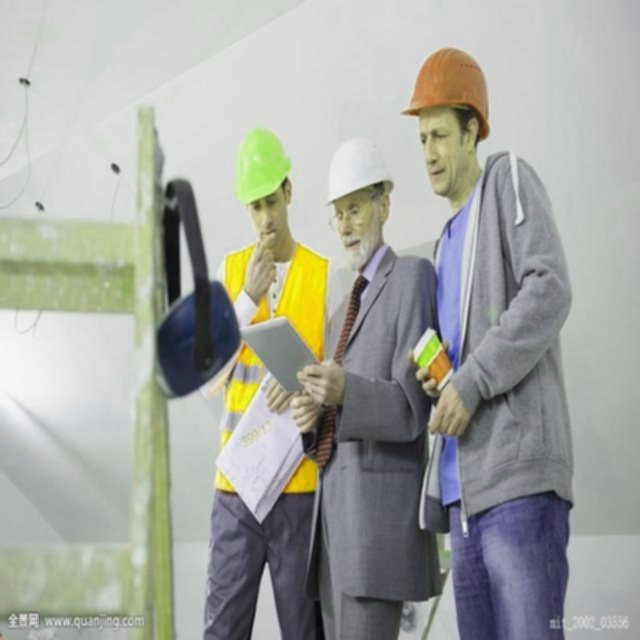Con_Casco: (402, 47, 490, 199), (326, 135, 393, 244), (236, 128, 290, 251)
Sin_Chaleco: (325, 255, 435, 524)
